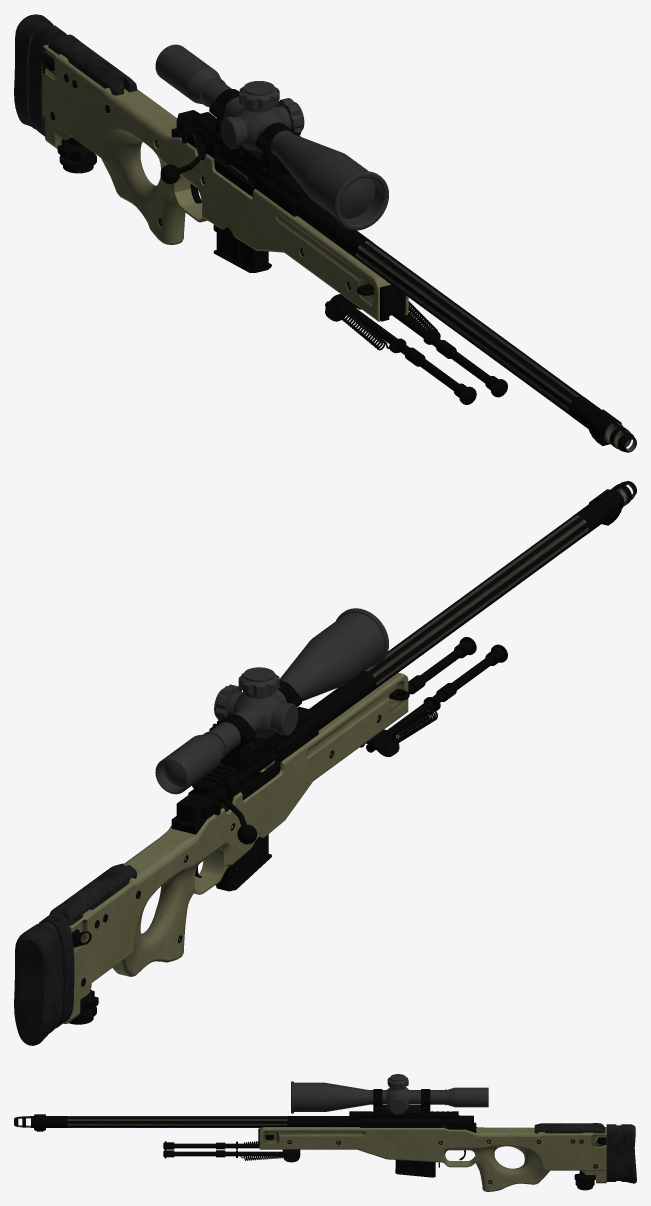
Rendered from awp (1).glb.
3 views of the same model, one above another, from view 1: azimuth 30°, elevation 25°; view 2: azimuth 150°, elevation 25°; view 3: azimuth 270°, elevation 25° (orthographic). The views are drawn at different scales.
Visible parts, largest first — view 1: 1_low.002, 1_low.003; view 2: 1_low.002, 1_low.003; view 3: 1_low.002, 1_low.003.
Part boxes in pixels (bbox=[...]): 1_low.002: bbox=[14, 14, 636, 452]; 1_low.003: bbox=[50, 44, 600, 444]; 1_low.002: bbox=[14, 481, 636, 1045]; 1_low.003: bbox=[68, 520, 612, 1024]; 1_low.002: bbox=[14, 1089, 636, 1191]; 1_low.003: bbox=[38, 1074, 597, 1190].
Size of the model in its own units: 206 by 508 by 2548.
2 materials, 2 textured.
